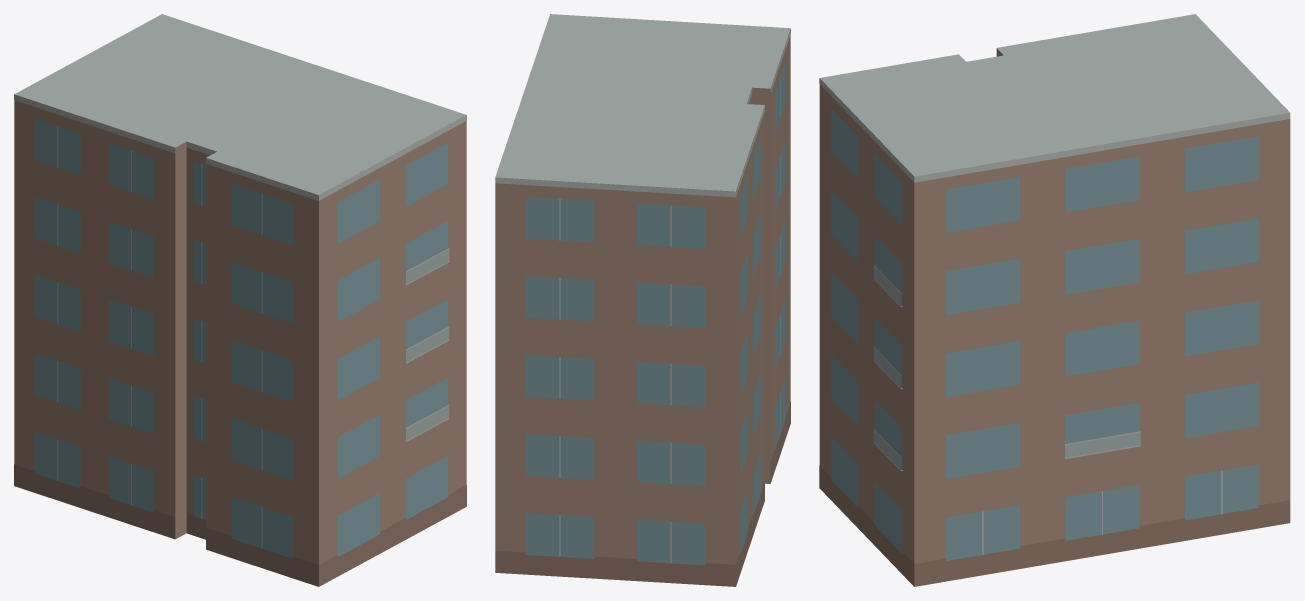
Rendered from survey-upis-32856367.glb.
3 views of the same model, side by side, from view 1: azimuth 30°, elevation 25°; view 2: azimuth 150°, elevation 25°; view 3: azimuth 270°, elevation 25° (orthographic). The views are drawn at different scales.
Visible parts, largest first — view 1: survey-upis-32856367.tmp; view 2: survey-upis-32856367.tmp; view 3: survey-upis-32856367.tmp.
Boxes of the visible parts, x1,y1,x2,y2 form: survey-upis-32856367.tmp: (14, 14, 466, 586); survey-upis-32856367.tmp: (495, 14, 790, 586); survey-upis-32856367.tmp: (819, 14, 1290, 586).
Bounding box in the file's own units: 14.04 × 16.5 × 17.17.
